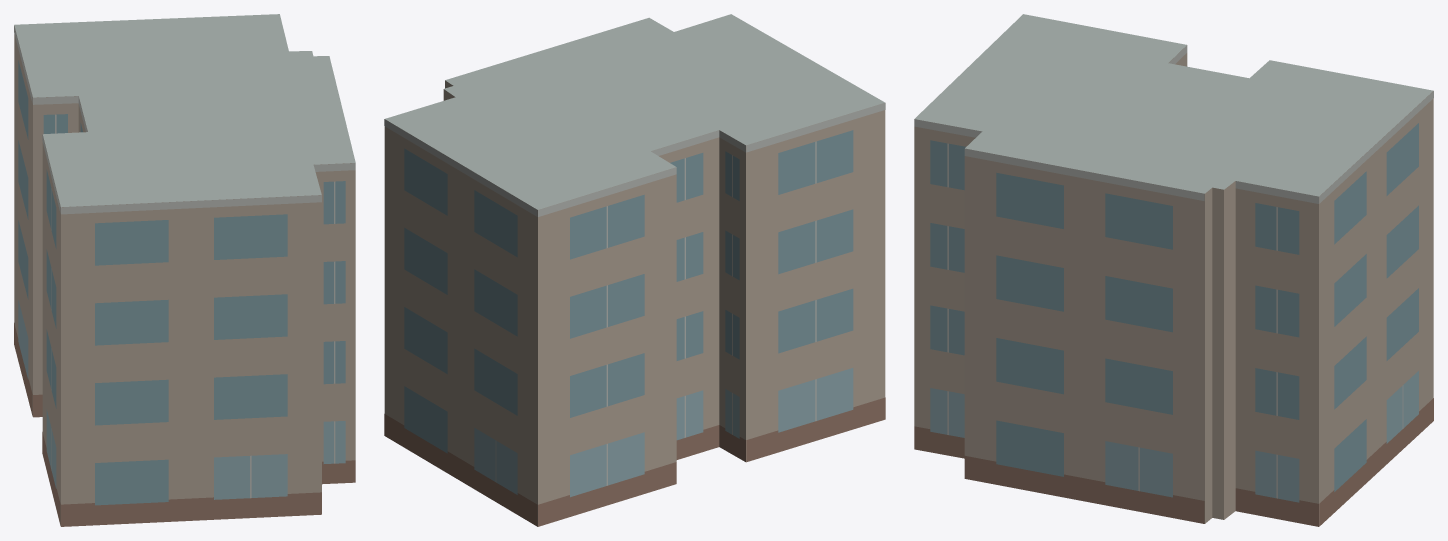
File: survey-upis-32532572.glb
3 renders of one model, left to right at view 1: azimuth 30°, elevation 25°; view 2: azimuth 150°, elevation 25°; view 3: azimuth 270°, elevation 25°, orthographic. The views are drawn at different scales.
Parts seen in each view (by area): view 1: survey-upis-32532572.tmp; view 2: survey-upis-32532572.tmp; view 3: survey-upis-32532572.tmp.
Boxes of the visible parts, box(x1,y1,x2,y2) form: survey-upis-32532572.tmp: box(14, 14, 355, 526); survey-upis-32532572.tmp: box(384, 14, 885, 526); survey-upis-32532572.tmp: box(914, 14, 1433, 526).
Size of the model in its own units: 12.69 by 10.7 by 15.26.
